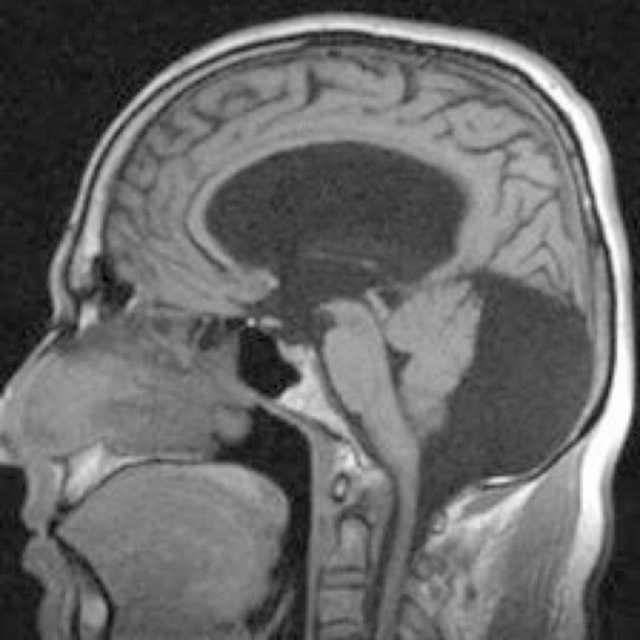glioma tumor: (143, 86, 577, 468)
